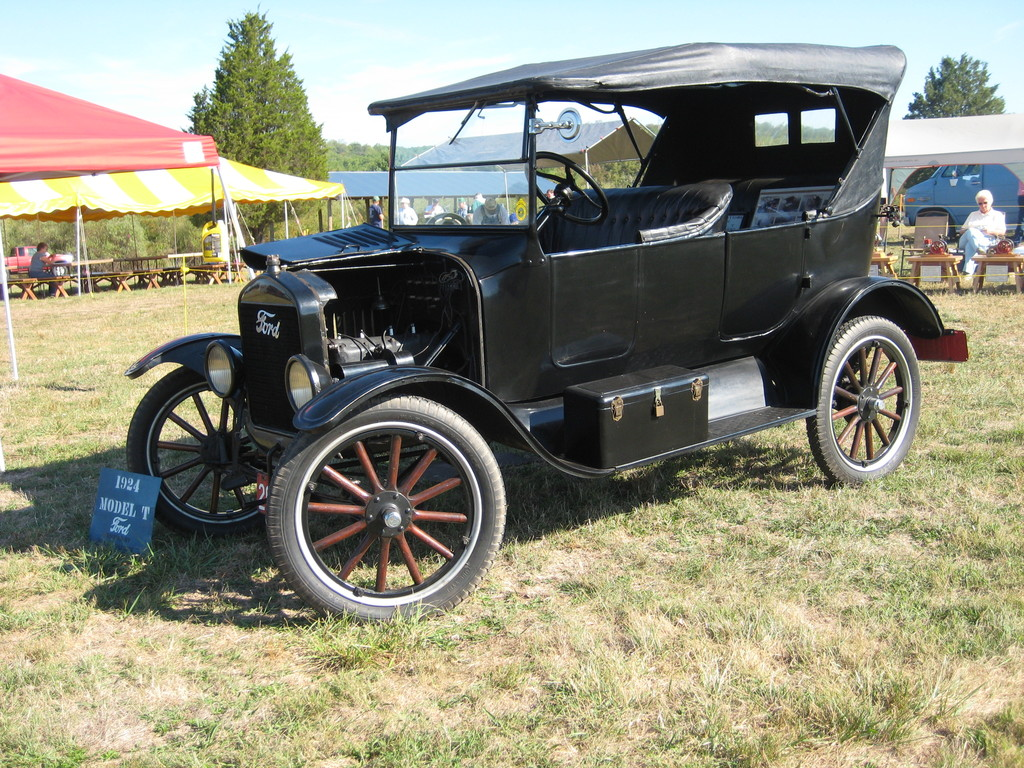Person: (958, 188, 1006, 281), (28, 241, 57, 298), (470, 196, 508, 227), (394, 196, 417, 225), (423, 197, 448, 223), (367, 195, 382, 229), (457, 194, 470, 221), (545, 188, 555, 198), (510, 213, 516, 227)
